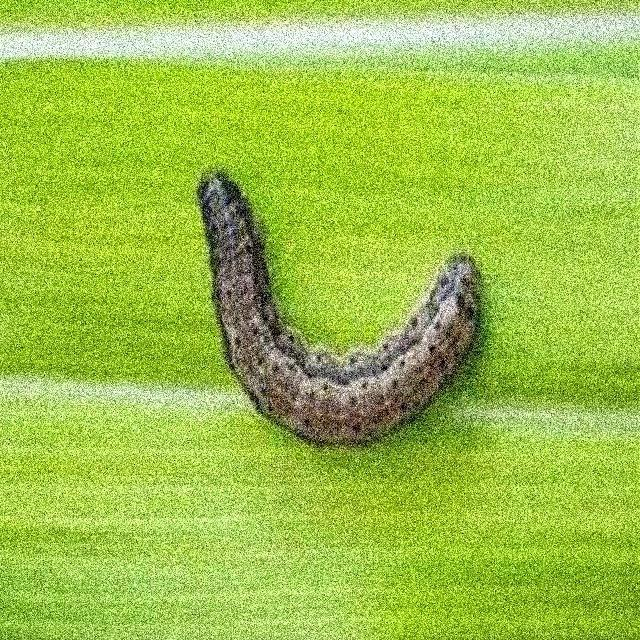gusano_cogollero: (192, 159, 492, 452)
